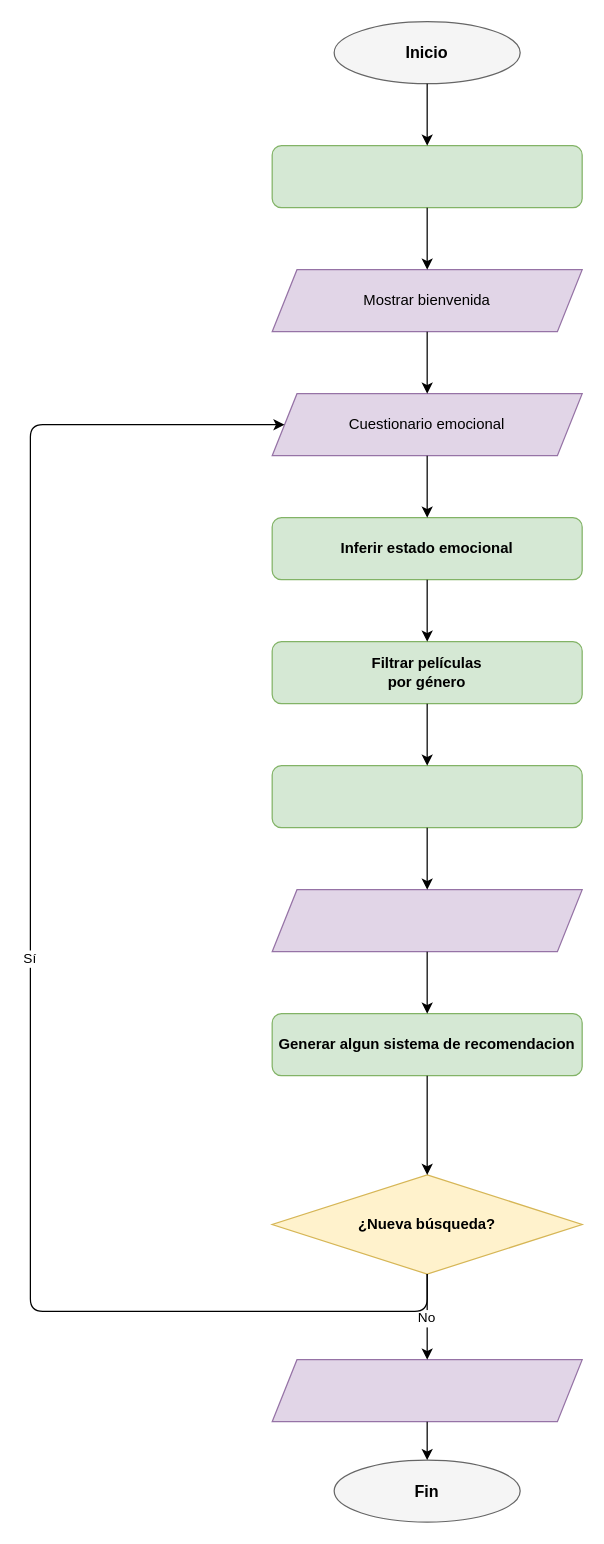
Image size: 604x1544. Some labels were removed from this diagram. Here are the shapes that lost their labels. From the top down, the centre of each, then its label:
At point 426,176: "Cargar datos de películas".
At point 426,796: "Calcular % de compatibilidad".
At point 426,920: "Mostrar ranking de películas con gráfico de compatibilidad".
At point 426,1390: "Mostrar despedida".
